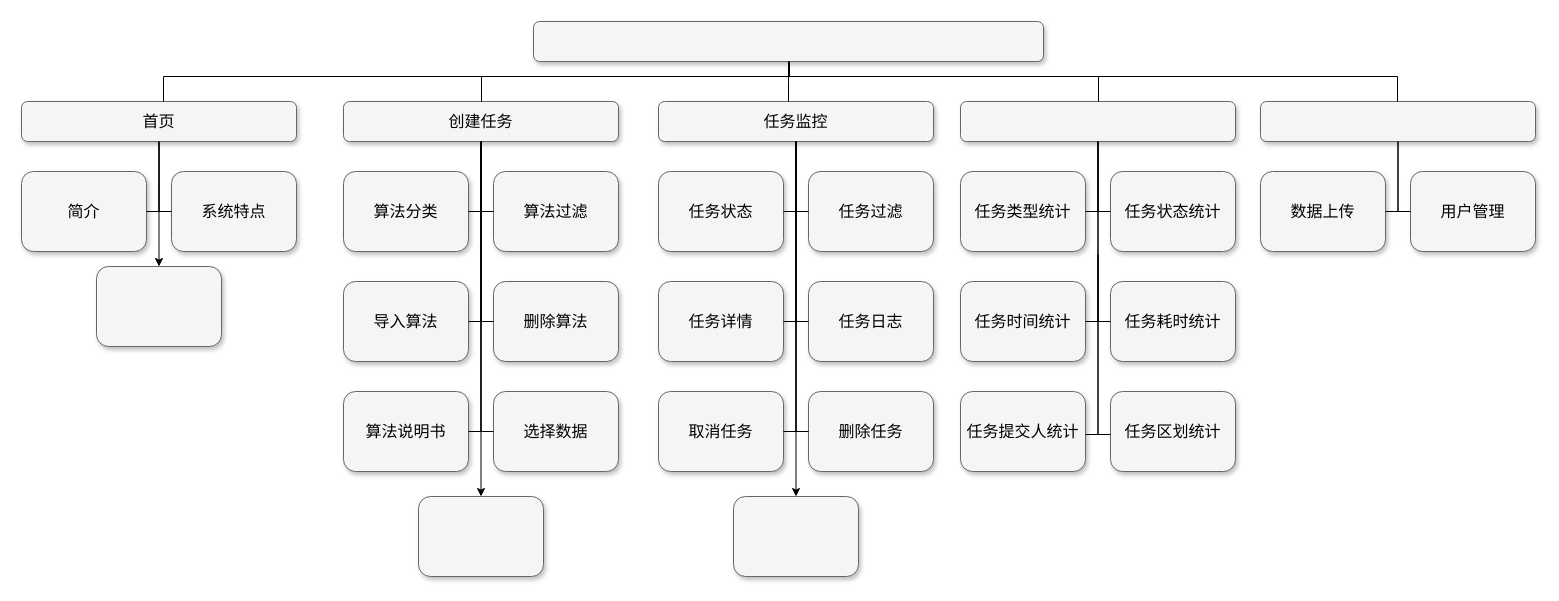
Some shapes in this 1559 by 601 pixel diagram are drawn without their labels. The centre of each missing label's shape, as x and y in pixels:
下载成果: point 796,538
任务统计: point 1099,122
典型应用案例: point 160,308
影像自动解译系统: point 789,42
提交任务: point 482,538
系统管理: point 1399,122
